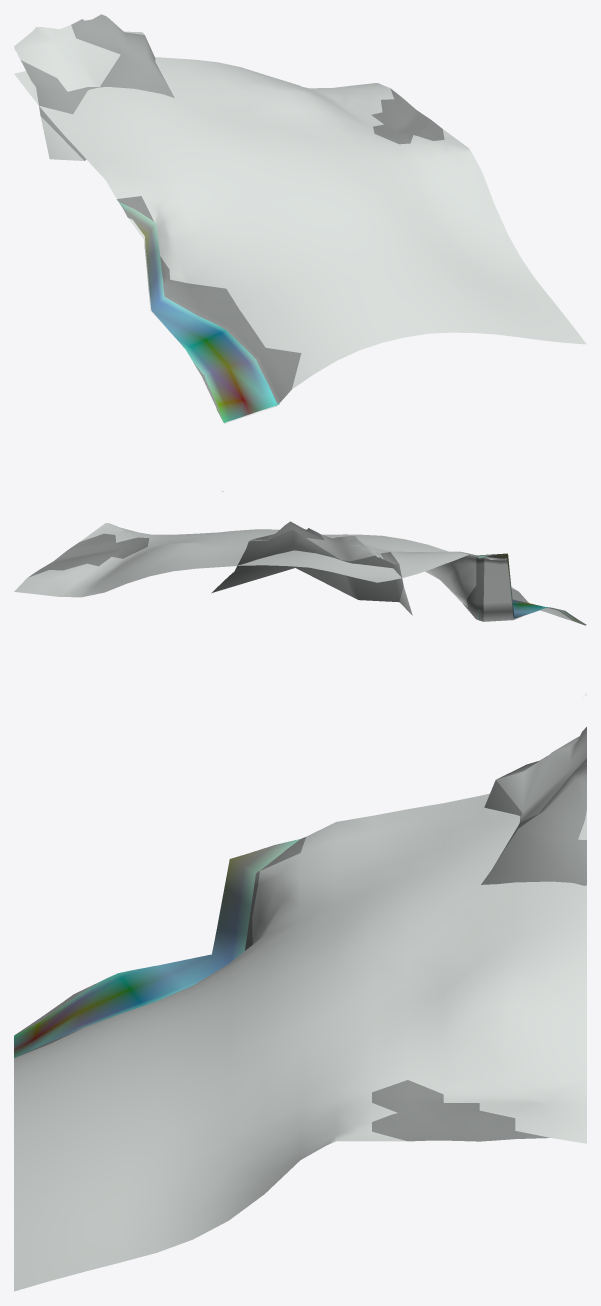
3 views of the same model, one above another, from view 1: azimuth 30°, elevation 25°; view 2: azimuth 150°, elevation 25°; view 3: azimuth 270°, elevation 25° (orthographic). The views are drawn at different scales.
Parts seen in each view (by area): view 1: G:\FFXIV-MapTools\exports\r1f1\bg\ffxiv\roc_r1\fld\r1f1\bgpl (×8); view 2: G:\FFXIV-MapTools\exports\r1f1\bg\ffxiv\roc_r1\fld\r1f1\bgpl (×8); view 3: G:\FFXIV-MapTools\exports\r1f1\bg\ffxiv\roc_r1\fld\r1f1\bgpl (×7).
Part boxes in pixels (left/top/right/bottom): G:\FFXIV-MapTools\exports\r1f1\bg\ffxiv\roc_r1\fld\r1f1\bgpl (×8): left=14, top=14, right=586, bottom=491; G:\FFXIV-MapTools\exports\r1f1\bg\ffxiv\roc_r1\fld\r1f1\bgpl (×8): left=14, top=521, right=586, bottom=695; G:\FFXIV-MapTools\exports\r1f1\bg\ffxiv\roc_r1\fld\r1f1\bgpl (×7): left=14, top=727, right=586, bottom=1291.
Bounding box in the file's own units: 128 × 103 × 128.
